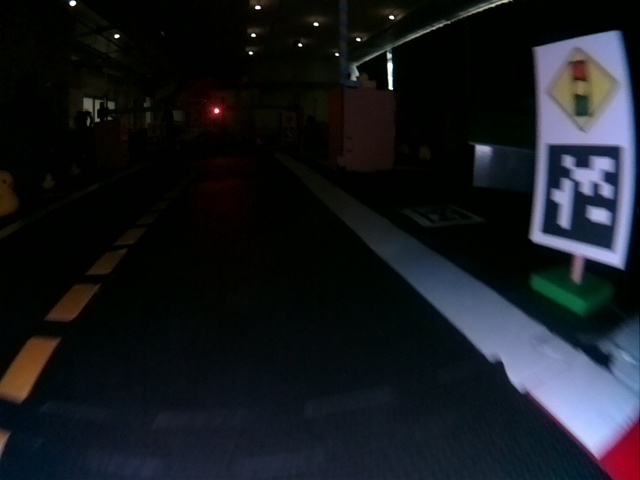QR code: (543, 147, 621, 250), (400, 206, 479, 229)
Signal sign: (546, 45, 620, 132)
Traffic light: (211, 107, 220, 113)
